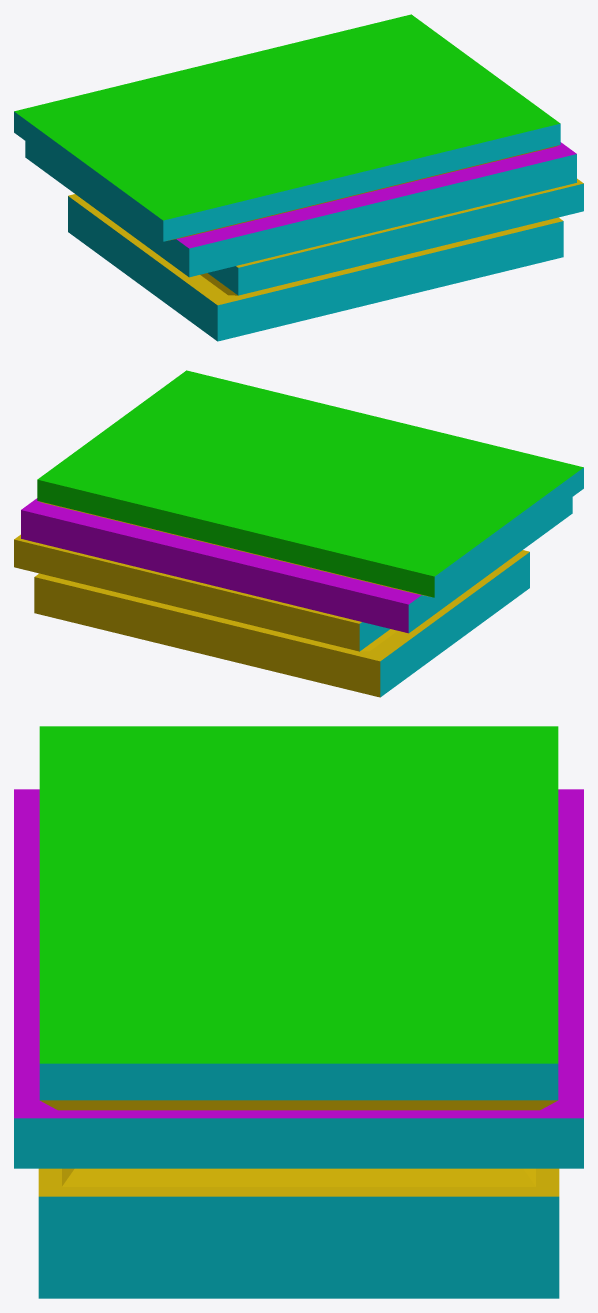
The model's file is SM_Book_1.fbx.
3 views of the same model, one above another, from view 1: azimuth 30°, elevation 25°; view 2: azimuth 150°, elevation 25°; view 3: azimuth 270°, elevation 25° (orthographic). The views are drawn at different scales.
Parts seen in each view (by area): view 1: SHELF.007; view 2: SHELF.007; view 3: SHELF.007.
Part boxes in pixels (<box>): SHELF.007: <box>14,14,583,341</box>; SHELF.007: <box>14,370,583,697</box>; SHELF.007: <box>14,726,583,1298</box>.
Size of the model in its own units: 50.39 by 34.02 by 15.35.
